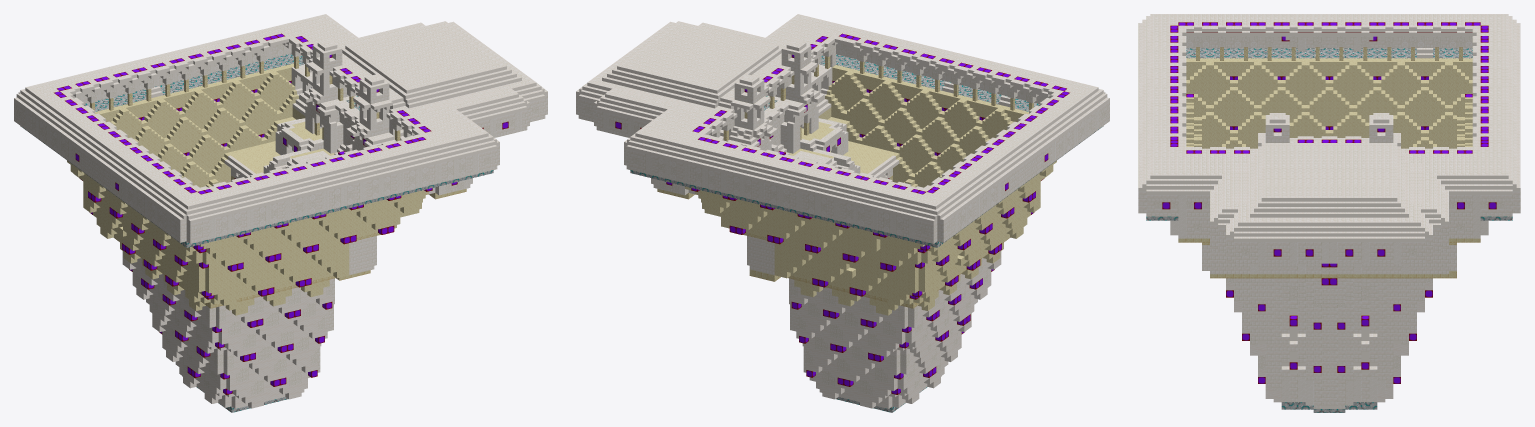
Rendered from minecraft.obj.
The picture shows the model from 3 angles, left to right: view 1: azimuth 30°, elevation 25°; view 2: azimuth 150°, elevation 25°; view 3: azimuth 270°, elevation 25°; orthographic projection. The views are drawn at different scales.
Size of the model in its own units: 65 by 46 by 48.
